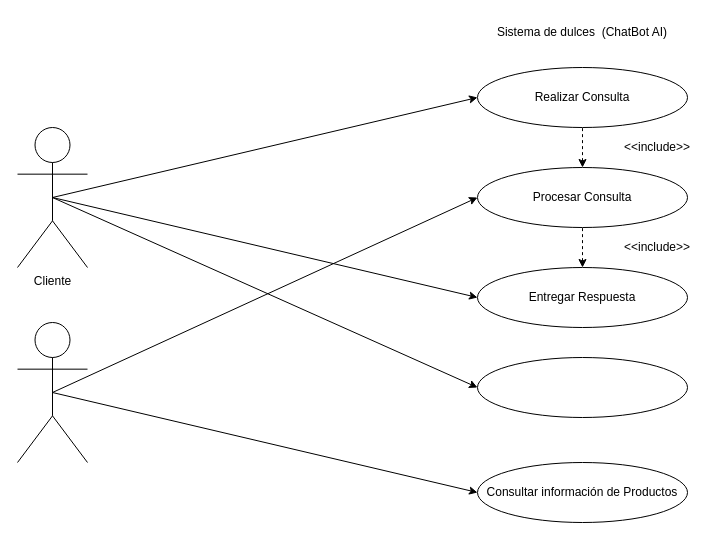
The diagram is 708 pixels wide and 540 high, and some of its shapes have lost their labels. Each missing label, with the box of its shape:
ChatBot: (16, 322, 88, 462)
Recomendar Productos: (476, 356, 688, 418)
